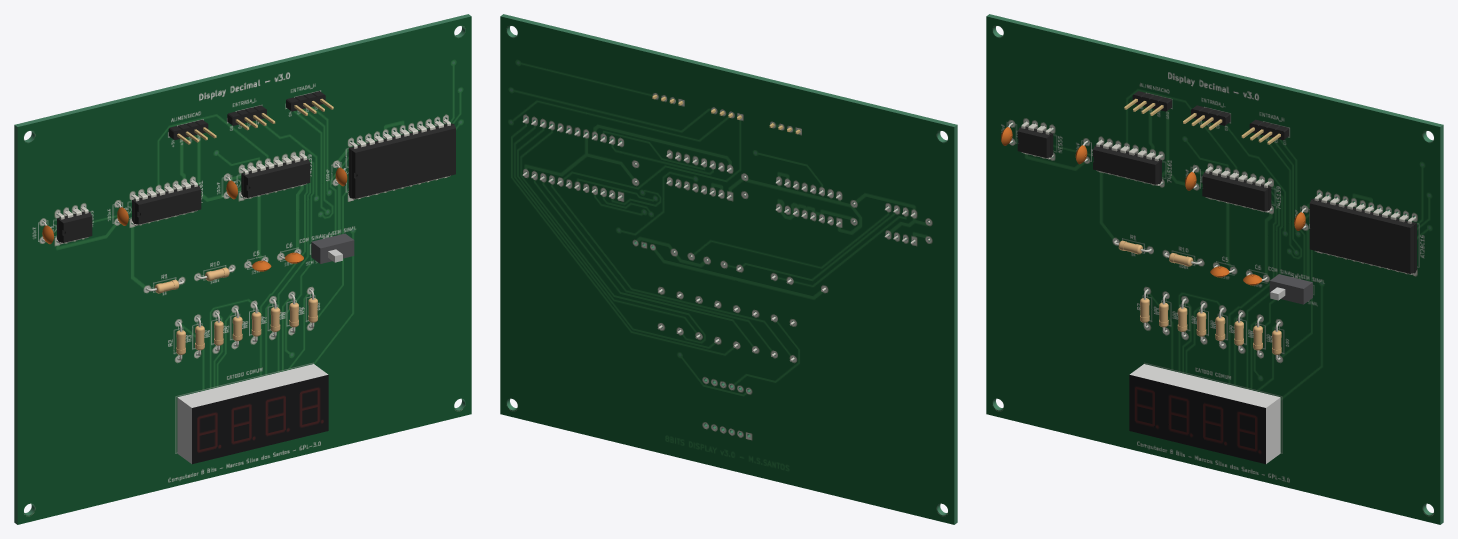
File: display-decimal.glb
The picture shows the model from 3 angles, left to right: view 1: azimuth 30°, elevation 25°; view 2: azimuth 150°, elevation 25°; view 3: azimuth 330°, elevation 25°; orthographic projection.
Visible parts, largest first — view 1: superficie_topo, modelo_proprio_3, =>[0:1:1:11]_3fc1bd, =>[0:1:1:14], modelo_proprio_2, =>[0:1:1:5]_1_16397c, =>[0:1:1:5]_0539d4, =>[0:1:1:13]_4652fc, modelo_proprio_0, =>[0:1:1:11]_a590ec; view 2: superficie_fundo, =>[0:1:1:14]; view 3: superficie_topo, modelo_proprio_3, =>[0:1:1:11]_3fc1bd, =>[0:1:1:14], modelo_proprio_2, =>[0:1:1:5]_0539d4, =>[0:1:1:5]_1_16397c, =>[0:1:1:13]_4652fc, modelo_proprio_0, =>[0:1:1:11]_a590ec.
Part boxes in pixels (x1,y1,x2,y2): superficie_topo: [17, 16, 471, 524]; modelo_proprio_3: [192, 375, 328, 464]; =>[0:1:1:11]_3fc1bd: [348, 123, 455, 198]; =>[0:1:1:14]: [14, 14, 471, 524]; modelo_proprio_2: [177, 364, 328, 463]; =>[0:1:1:5]_1_16397c: [132, 185, 201, 224]; =>[0:1:1:5]_0539d4: [241, 158, 310, 197]; =>[0:1:1:13]_4652fc: [57, 211, 92, 242]; modelo_proprio_0: [311, 233, 354, 263]; =>[0:1:1:11]_a590ec: [349, 118, 450, 199]; superficie_fundo: [500, 16, 954, 524]; =>[0:1:1:14]: [500, 14, 957, 524]; superficie_topo: [986, 16, 1440, 524]; modelo_proprio_3: [1129, 375, 1265, 464]; =>[0:1:1:11]_3fc1bd: [1309, 198, 1416, 273]; =>[0:1:1:14]: [986, 14, 1443, 524]; modelo_proprio_2: [1129, 364, 1280, 463]; =>[0:1:1:5]_0539d4: [1202, 171, 1271, 211]; =>[0:1:1:5]_1_16397c: [1093, 145, 1161, 184]; =>[0:1:1:13]_4652fc: [1017, 126, 1053, 157]; modelo_proprio_0: [1269, 274, 1312, 304]; =>[0:1:1:11]_a590ec: [1314, 193, 1415, 274].
Size of the model in its own units: 0.1337 by 0.1119 by 0.0118.
8 materials, 3 textured.
